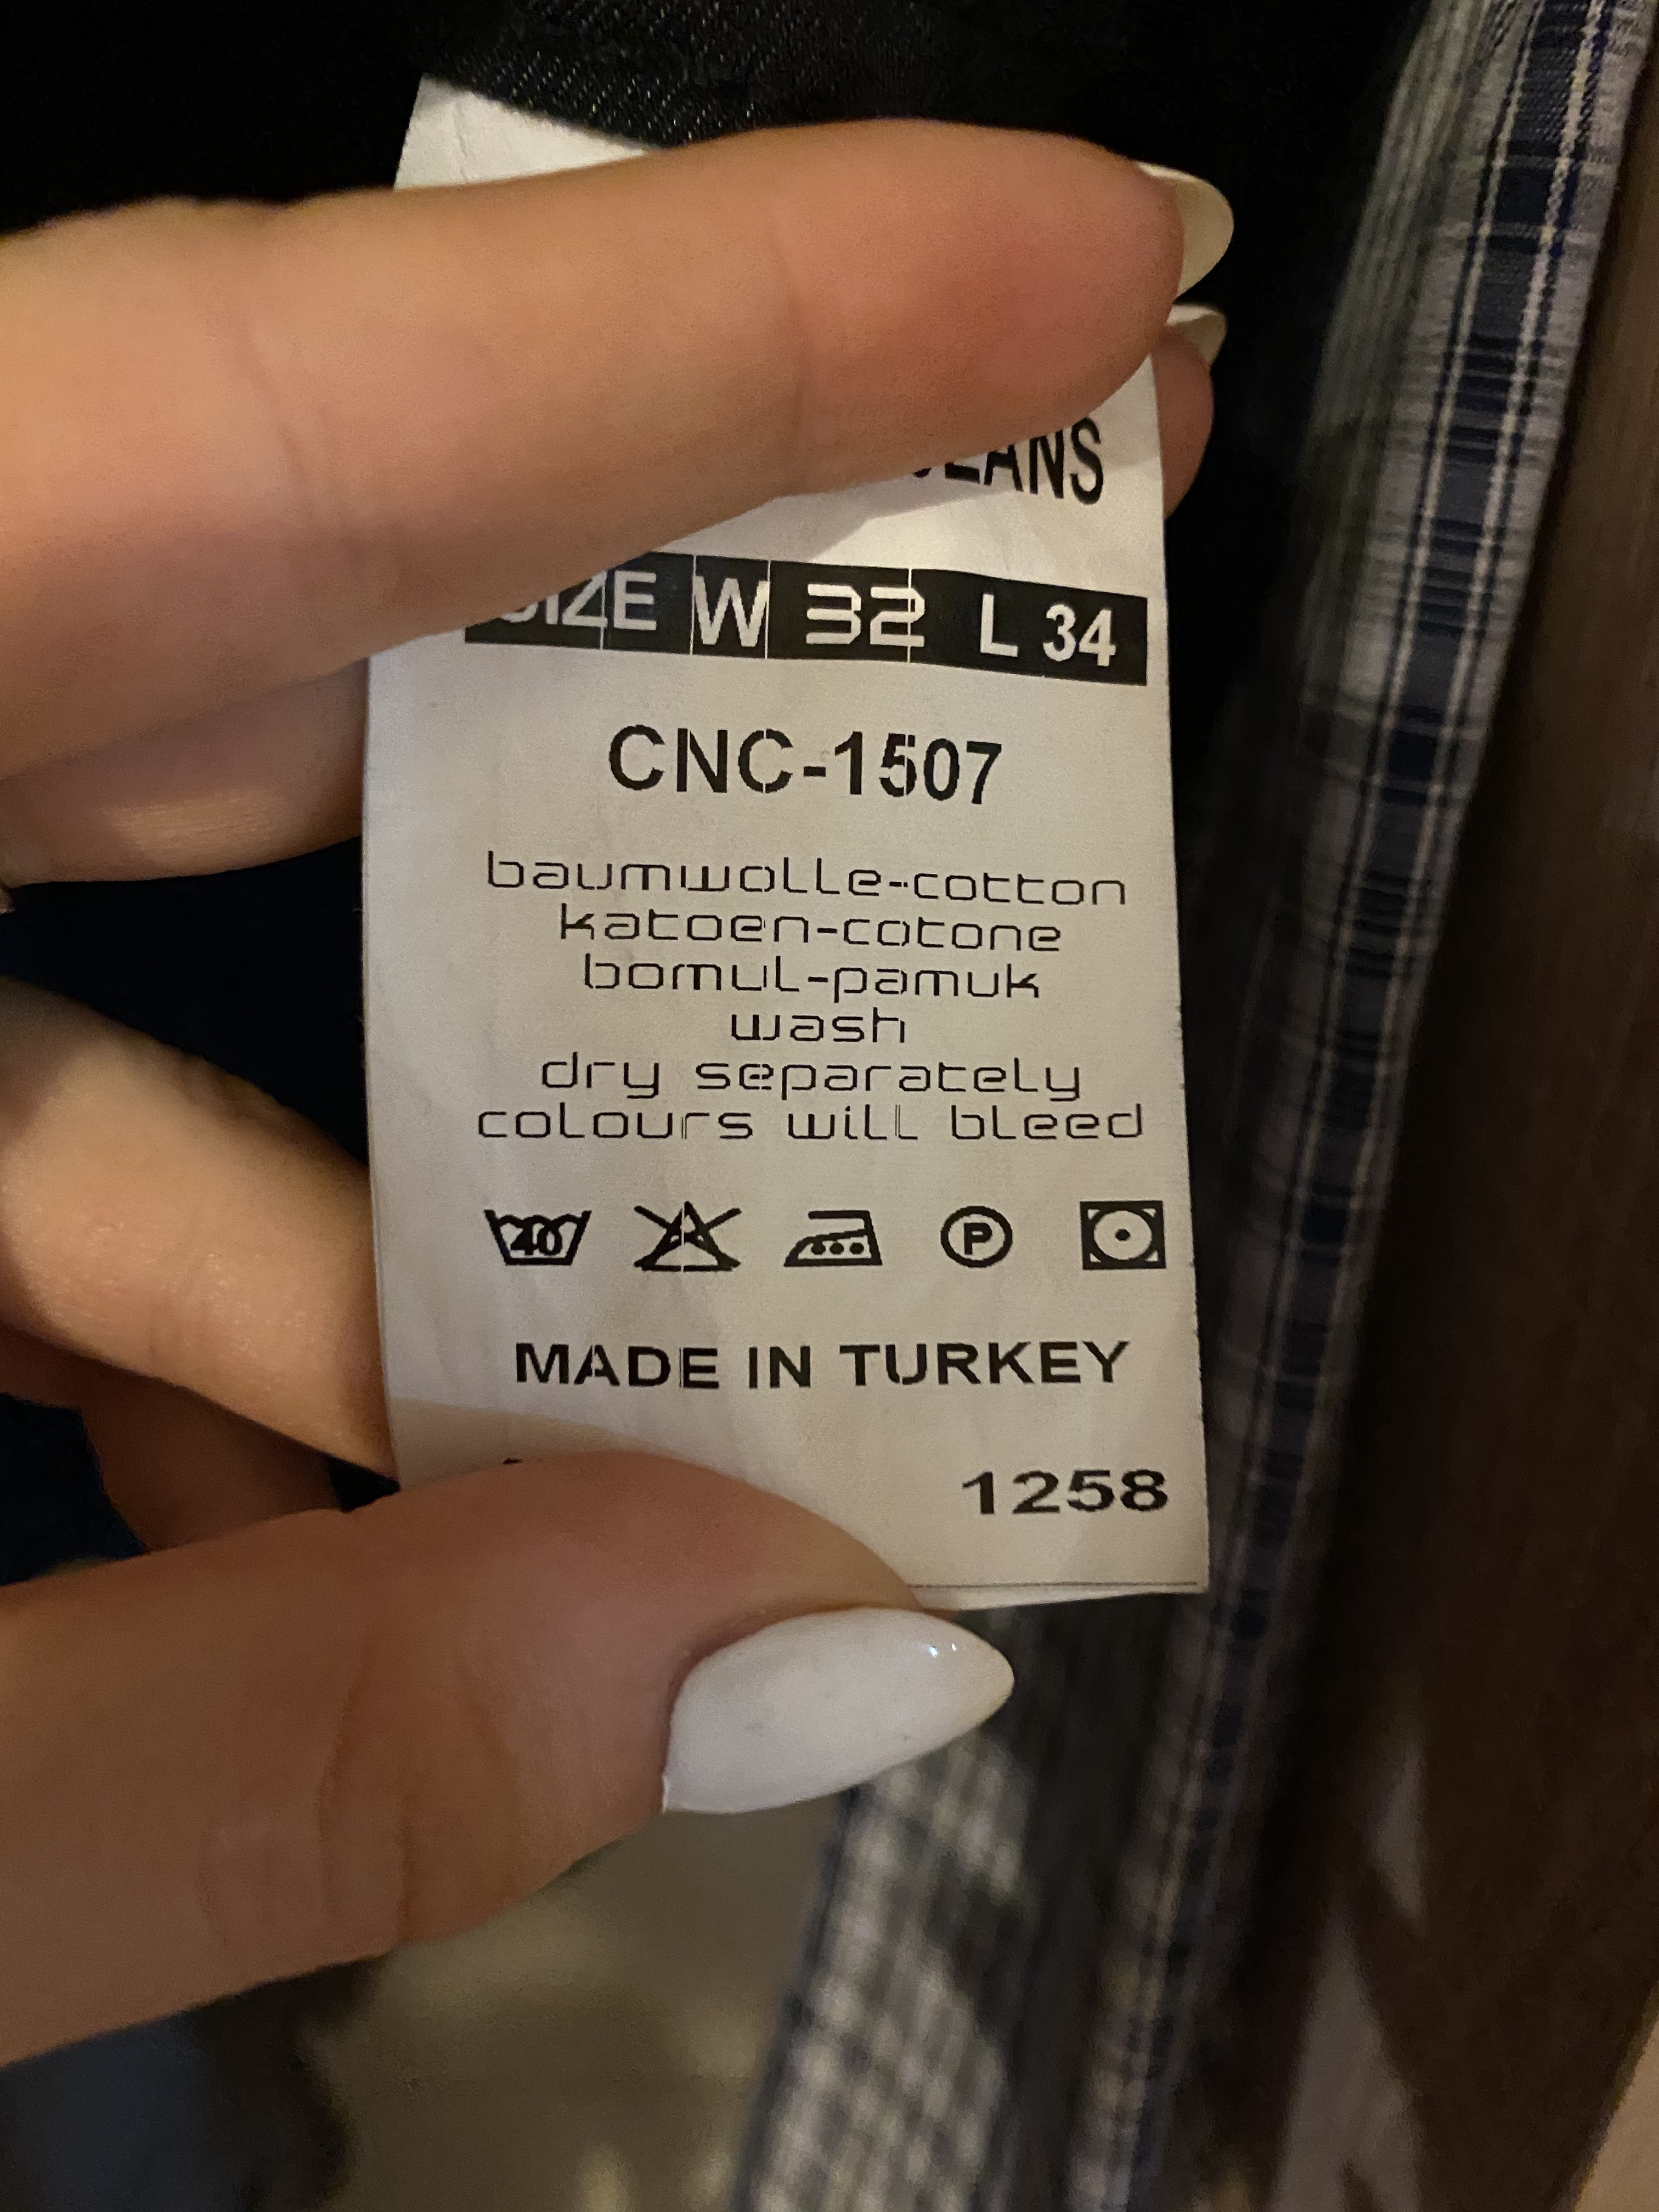do_not_bleach: (629, 1193, 746, 1282)
dry_clean_tetrachloroethylene_pce_only: (936, 1204, 1016, 1273)
ironing_at_high_temp: (782, 1204, 885, 1270)
tumble_drying_low_temps: (1075, 1193, 1173, 1277)
wash_at_or_below_40: (481, 1204, 596, 1268)
